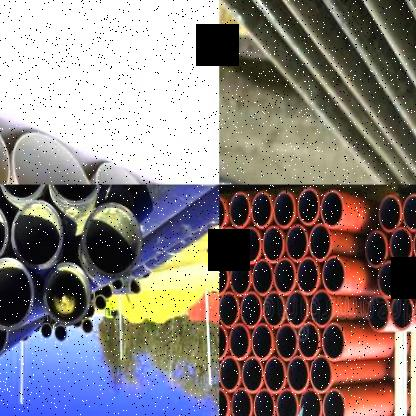pipe: (83, 202, 142, 279), (12, 132, 94, 184), (12, 201, 62, 268), (43, 262, 91, 326), (0, 258, 34, 330), (96, 162, 163, 185), (47, 184, 104, 205), (389, 226, 413, 266), (322, 256, 347, 294), (273, 257, 297, 296), (285, 224, 309, 263), (308, 223, 332, 262), (322, 323, 346, 361), (297, 322, 321, 360), (390, 293, 414, 331), (320, 190, 344, 228), (297, 187, 320, 226), (264, 356, 287, 394), (310, 355, 333, 393), (378, 261, 401, 299), (0, 184, 48, 202), (241, 356, 264, 393), (251, 323, 274, 360), (263, 291, 286, 328), (310, 290, 333, 327), (262, 226, 285, 263), (273, 191, 296, 228), (287, 355, 309, 393), (229, 323, 251, 361), (286, 290, 308, 328), (297, 257, 319, 295), (251, 191, 273, 229), (364, 231, 387, 267), (379, 196, 402, 232), (368, 295, 390, 332), (240, 227, 262, 264), (229, 192, 251, 229), (241, 292, 263, 328), (229, 260, 251, 296), (220, 355, 241, 392), (276, 324, 297, 361), (252, 259, 273, 296), (219, 292, 240, 328), (219, 226, 239, 263), (323, 387, 347, 416), (275, 388, 299, 416), (299, 388, 322, 416), (253, 388, 275, 416), (231, 388, 253, 416), (401, 192, 416, 231), (401, 259, 416, 296), (0, 306, 9, 361), (220, 259, 230, 296), (219, 323, 228, 361), (220, 387, 230, 416), (219, 196, 226, 231), (55, 324, 67, 343), (130, 278, 142, 295), (82, 319, 94, 335), (100, 284, 112, 299), (41, 323, 52, 339), (95, 295, 106, 310), (113, 279, 124, 290), (413, 225, 416, 264), (86, 305, 94, 319), (414, 293, 416, 331)
